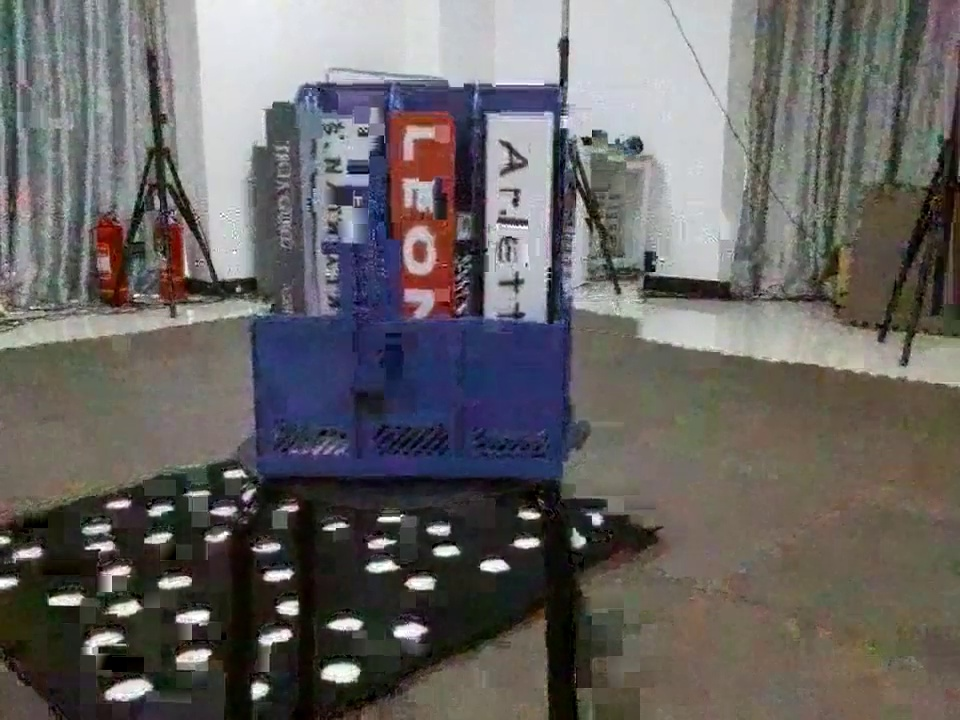files: (241, 70, 576, 493)
